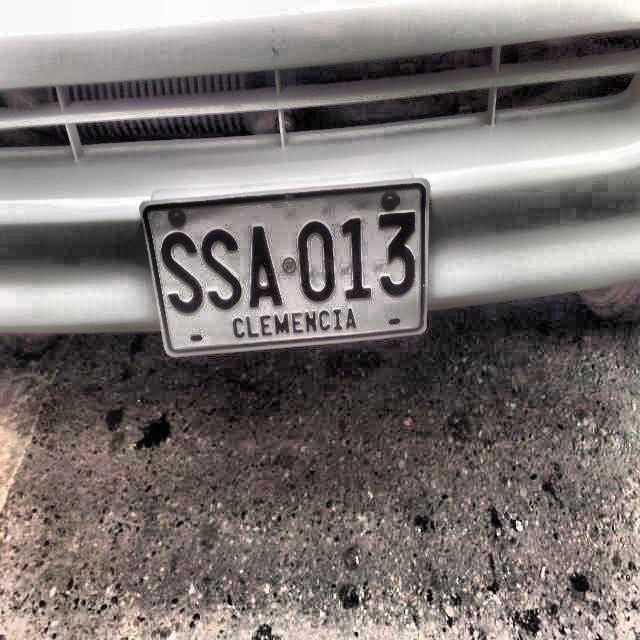plate: (143, 185, 424, 351)
